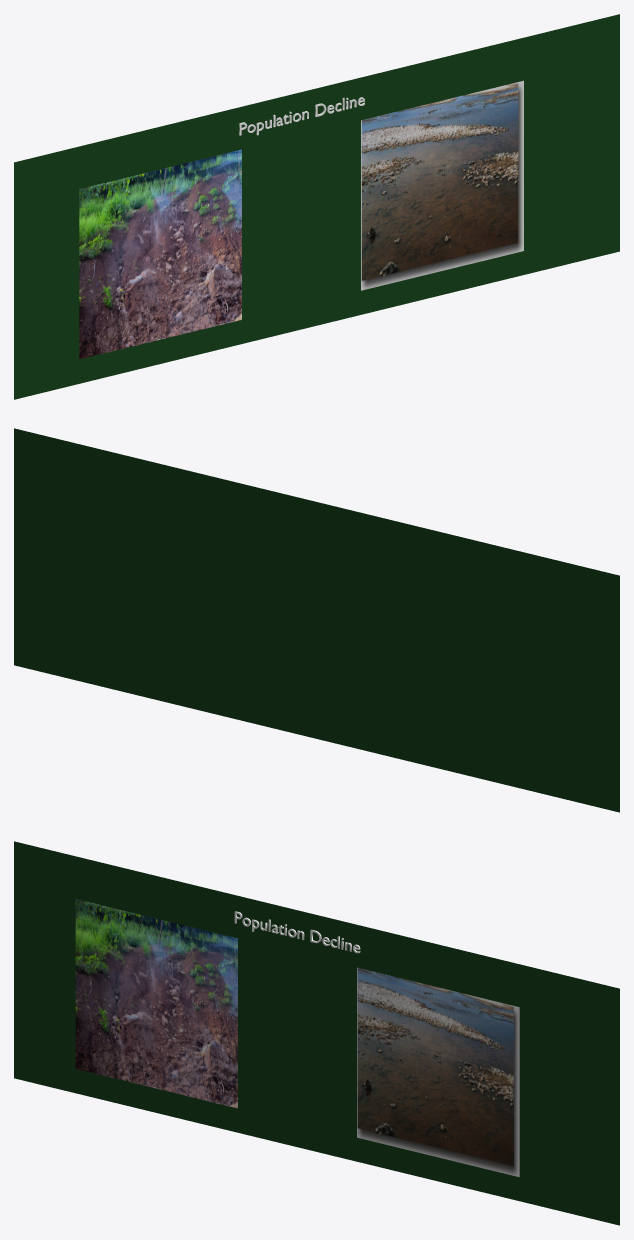
File: const5.gltf
The picture shows the model from 3 angles, top to bottom: view 1: azimuth 30°, elevation 25°; view 2: azimuth 150°, elevation 25°; view 3: azimuth 330°, elevation 25°; orthographic projection.
Parts seen in each view (by area): view 1: Plane.013, Plane, Plane.001, Text.008; view 2: Plane.013; view 3: Plane.013, Plane.001, Plane, Text.008.
Boxes of the visible parts, x1=… form: Plane.013: x1=14, y1=14, x2=619, y2=399; Plane: x1=79, y1=149, x2=241, y2=359; Plane.001: x1=361, y1=80, x2=523, y2=290; Text.008: x1=239, y1=97, x2=364, y2=135; Plane.013: x1=14, y1=428, x2=619, y2=812; Plane.013: x1=14, y1=841, x2=619, y2=1225; Plane.001: x1=357, y1=967, x2=519, y2=1177; Plane: x1=75, y1=899, x2=237, y2=1108; Text.008: x1=234, y1=911, x2=360, y2=953.
Bounding box in the file's own units: 15.94 × 5.96 × 0.1403.
Materials: 4 (2 with a texture image).
